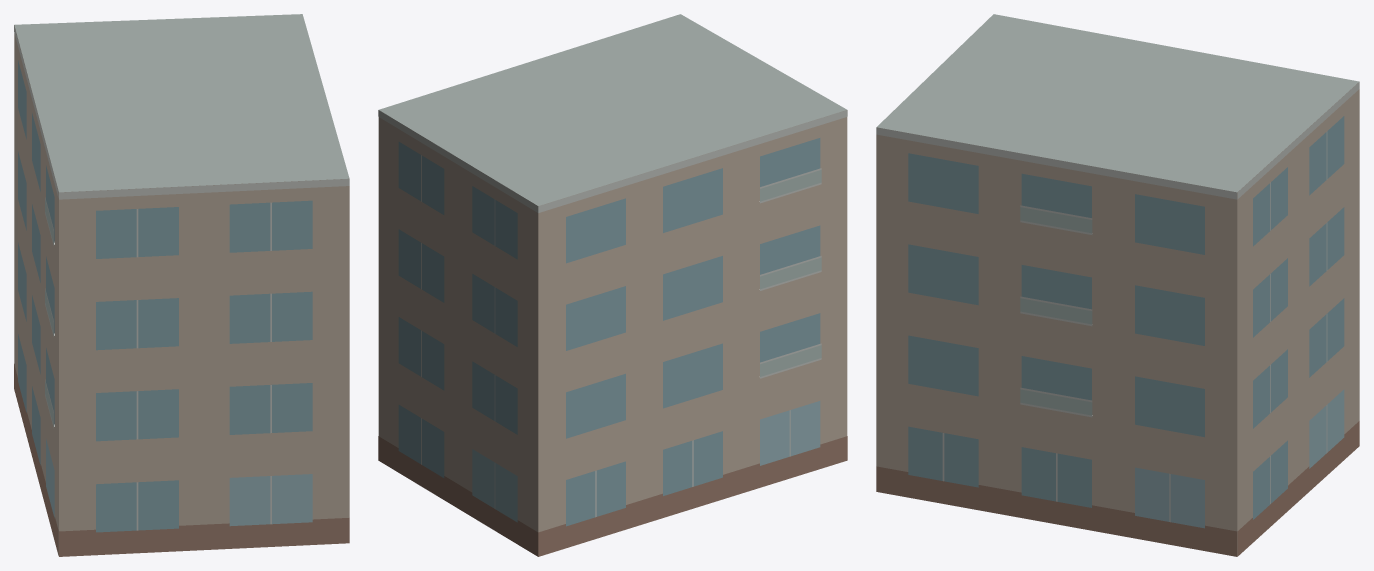
File: survey-upis-32931907.glb
The picture shows the model from 3 angles, left to right: view 1: azimuth 30°, elevation 25°; view 2: azimuth 150°, elevation 25°; view 3: azimuth 270°, elevation 25°; orthographic projection. The views are drawn at different scales.
Visible parts, largest first — view 1: survey-upis-32931907.tmp; view 2: survey-upis-32931907.tmp; view 3: survey-upis-32931907.tmp.
Boxes of the visible parts, x1=… form: survey-upis-32931907.tmp: x1=14, y1=14, x2=349, y2=556; survey-upis-32931907.tmp: x1=378, y1=14, x2=847, y2=556; survey-upis-32931907.tmp: x1=876, y1=14, x2=1359, y2=556.
Bounding box in the file's own units: 12.81 × 12.2 × 14.67.
